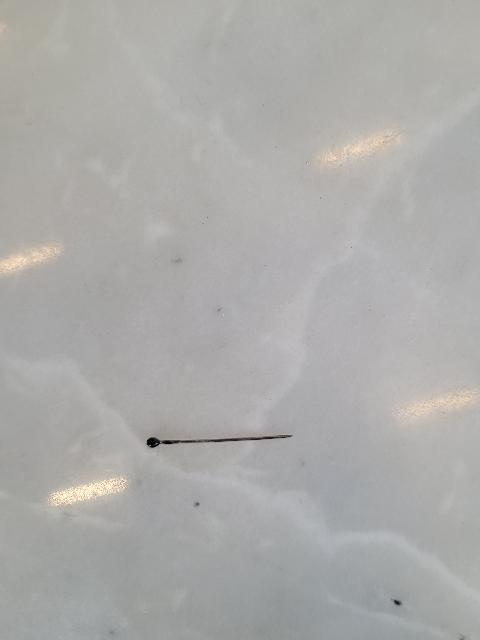Metal: (130, 424, 314, 463)
